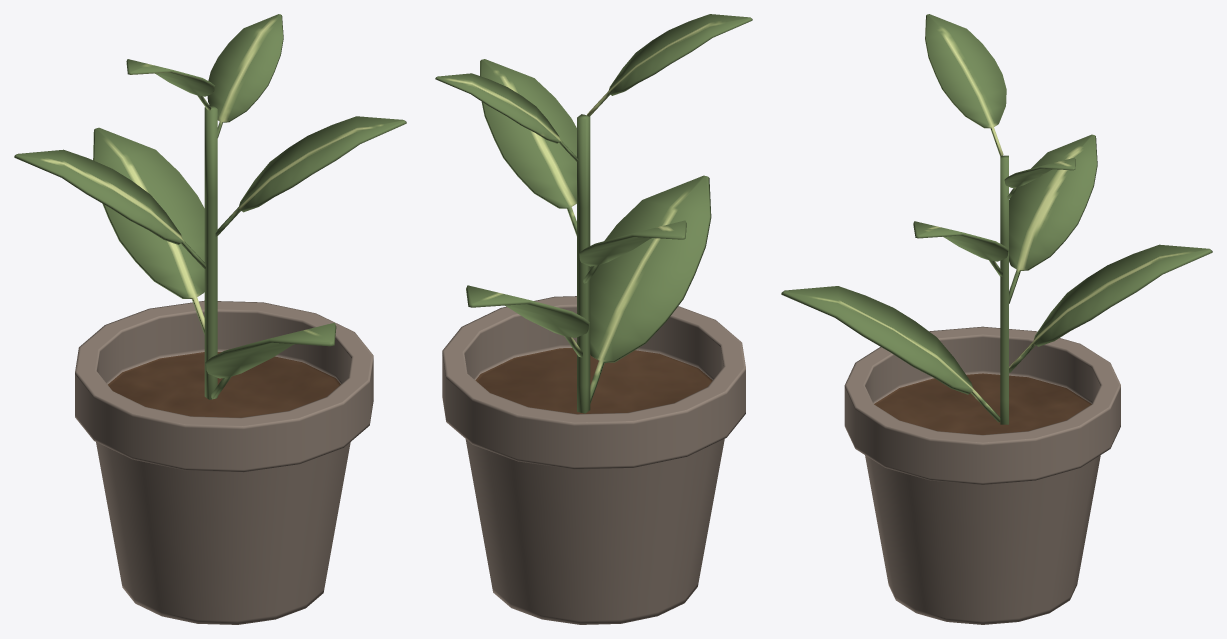
The model's file is Flowerpot_01.fbx.
3 renders of one model, left to right at view 1: azimuth 30°, elevation 25°; view 2: azimuth 150°, elevation 25°; view 3: azimuth 270°, elevation 25°, orthographic. The views are drawn at different scales.
Parts seen in each view (by area): view 1: Cube.140; view 2: Cube.140; view 3: Cube.140.
Boxes of the visible parts, <box> form: Cube.140: <box>14,14,406,624</box>; Cube.140: <box>435,14,752,624</box>; Cube.140: <box>781,14,1212,624</box>.
Size of the model in its own units: 26.8 by 48.41 by 36.71.
1 material, 1 textured.
